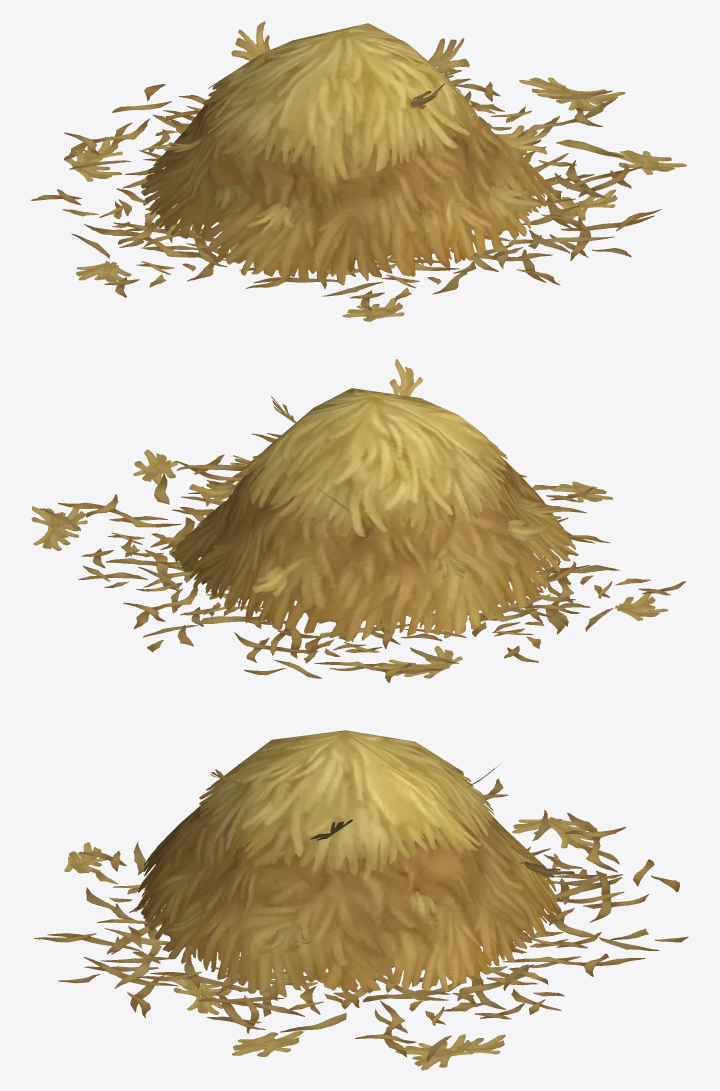
3 views of the same model, one above another, from view 1: azimuth 30°, elevation 25°; view 2: azimuth 150°, elevation 25°; view 3: azimuth 270°, elevation 25° (orthographic). The views are drawn at different scales.
Size of the model in its own units: 3.79 by 0.9777 by 3.41.
2 materials, 2 textured.
